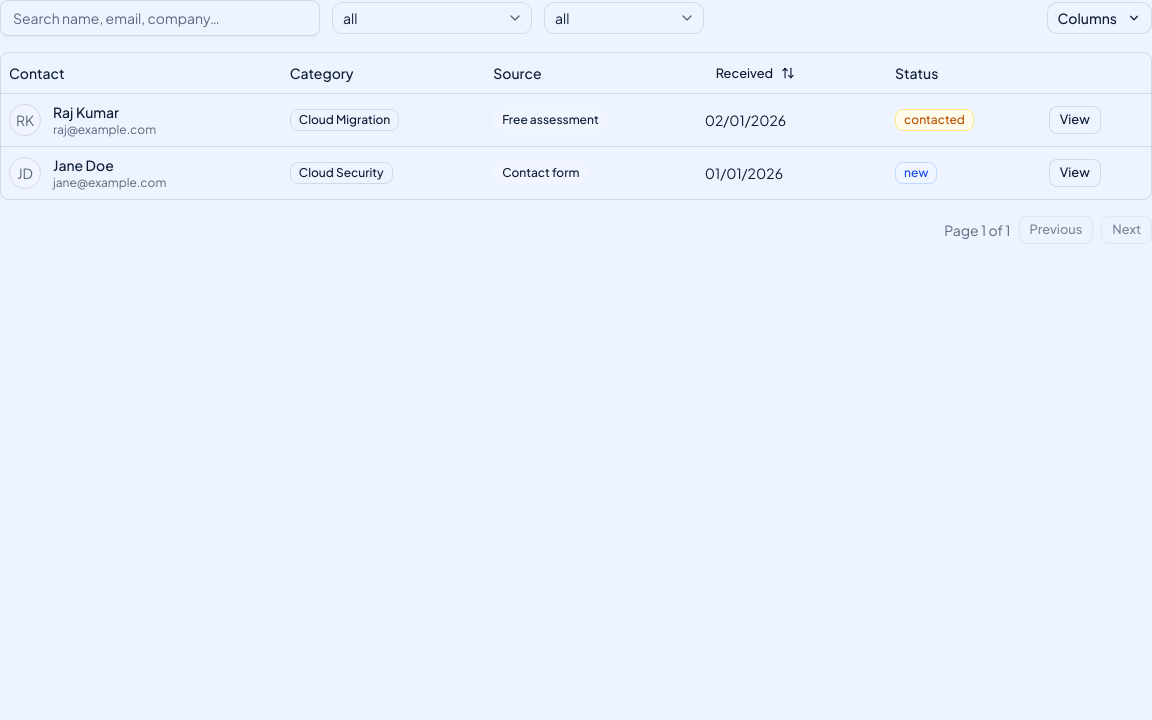
it: EnquiriesDataTable › opens the detail sheet when View is clicked
Click the button "View" in the row of "JD" at (1075, 172), box [1049,158,1101,186]
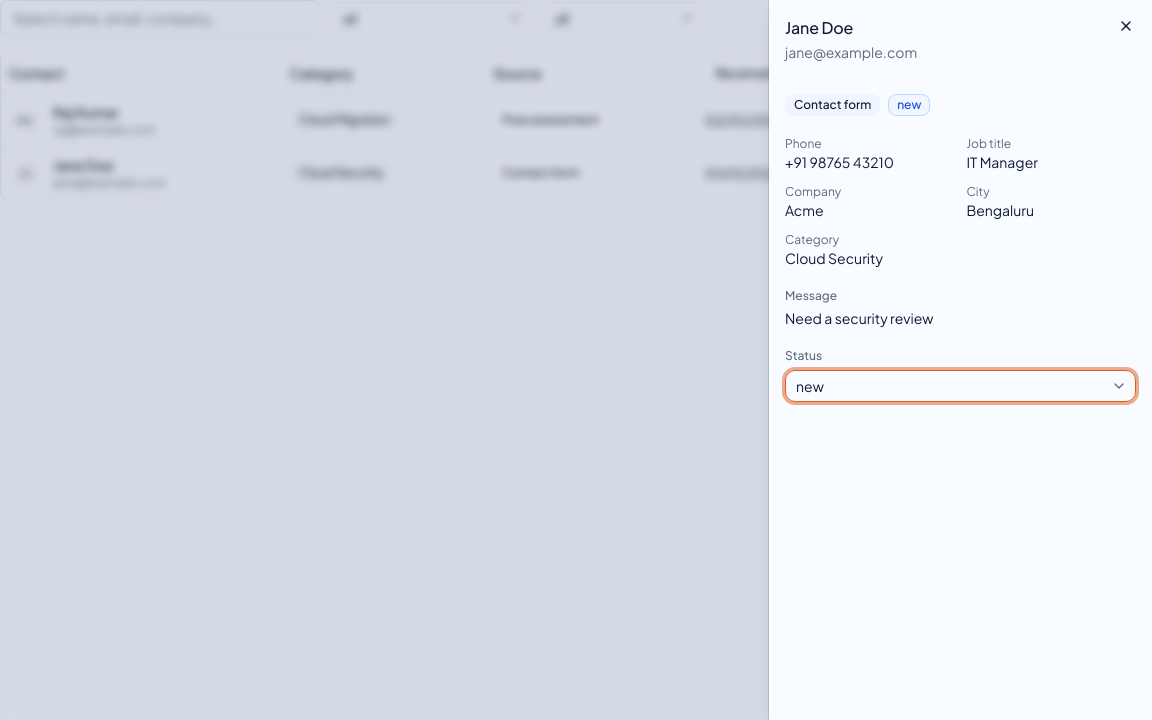
Expected: the text "Need a security review" is shown, [785,309,934,327]
